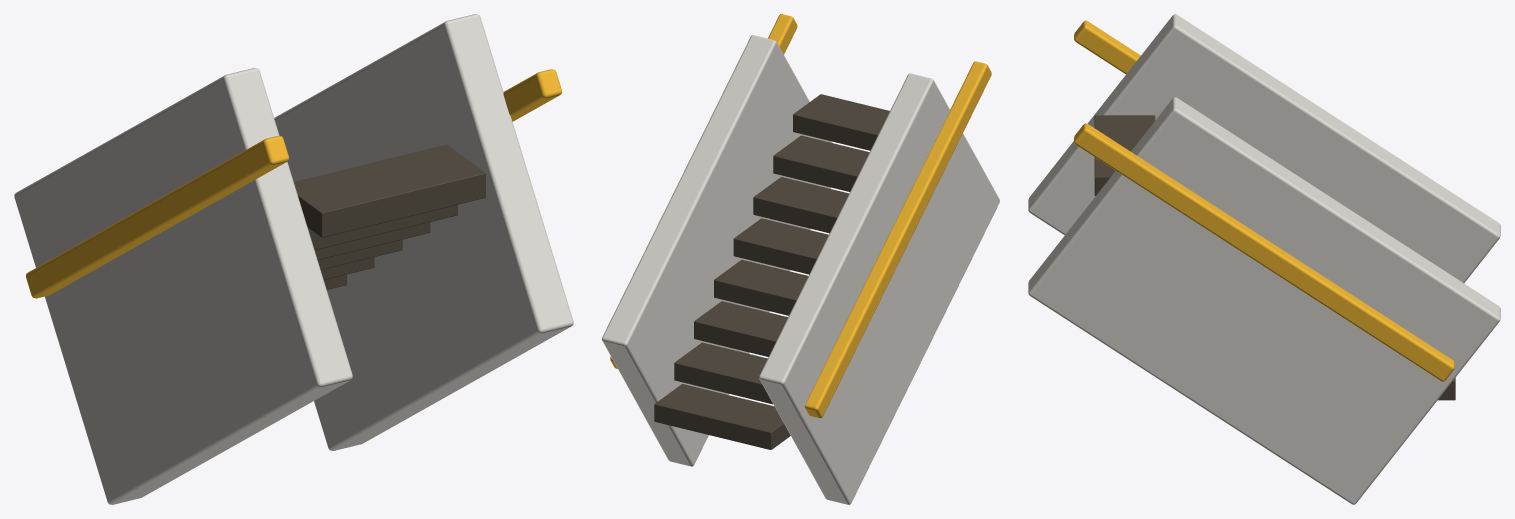
File: mall-escalator.glb
The picture shows the model from 3 angles, left to right: view 1: azimuth 30°, elevation 25°; view 2: azimuth 150°, elevation 25°; view 3: azimuth 270°, elevation 25°; orthographic projection. The views are drawn at different scales.
Visible parts, largest first — view 1: side-left, side-right, step-7, rail-l, rail-r, step-6, step-5, step-4; view 2: side-left, side-right, rail-l, step-0, step-1, step-7, step-6, step-5, step-4, step-3, step-2, rail-r; view 3: side-right, side-left, rail-r, step-7, rail-l.
Part boxes in pixels (left/top/right/bottom): side-left: left=14, top=68, right=352, bottom=504; side-right: left=274, top=14, right=573, bottom=450; step-7: left=294, top=144, right=485, bottom=237; rail-l: left=26, top=136, right=288, bottom=298; rail-r: left=503, top=69, right=561, bottom=121; step-6: left=308, top=204, right=457, bottom=249; step-5: left=314, top=222, right=430, bottom=259; step-4: left=317, top=239, right=402, bottom=269; side-left: left=759, top=73, right=999, bottom=504; side-right: left=602, top=35, right=832, bottom=466; rail-l: left=804, top=61, right=991, bottom=418; step-0: left=654, top=384, right=790, bottom=449; step-1: left=674, top=342, right=772, bottom=404; step-7: left=793, top=94, right=889, bottom=150; step-6: left=773, top=135, right=869, bottom=191; step-5: left=753, top=177, right=849, bottom=233; step-4: left=733, top=218, right=828, bottom=274; step-3: left=714, top=260, right=808, bottom=315; step-2: left=694, top=301, right=787, bottom=356; rail-r: left=610, top=14, right=797, bottom=368; side-right: left=1028, top=97, right=1500, bottom=504; side-left: left=1028, top=14, right=1500, bottom=282; rail-r: left=1074, top=123, right=1454, bottom=381; step-7: left=1094, top=115, right=1155, bottom=195; rail-l: left=1074, top=20, right=1140, bottom=74.
Size of the model in its own units: 1.46 by 2.45 by 2.64.
